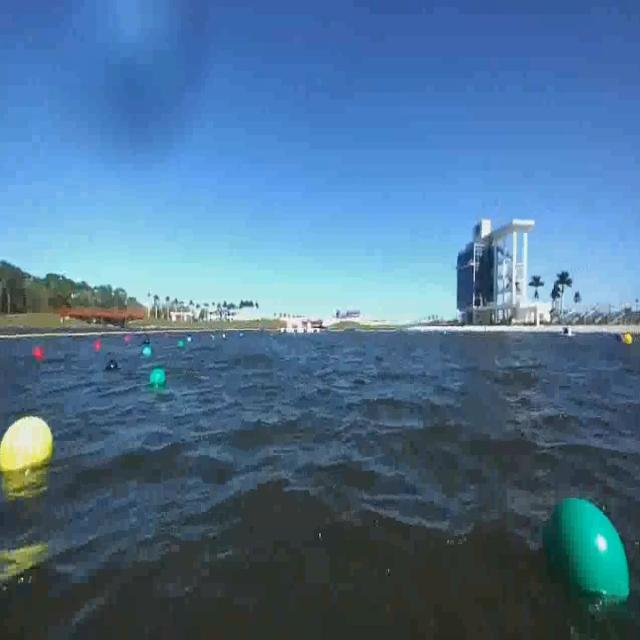green-buoy: (540, 495, 630, 611)
yellow-buoy: (1, 416, 55, 475), (624, 333, 634, 347)
